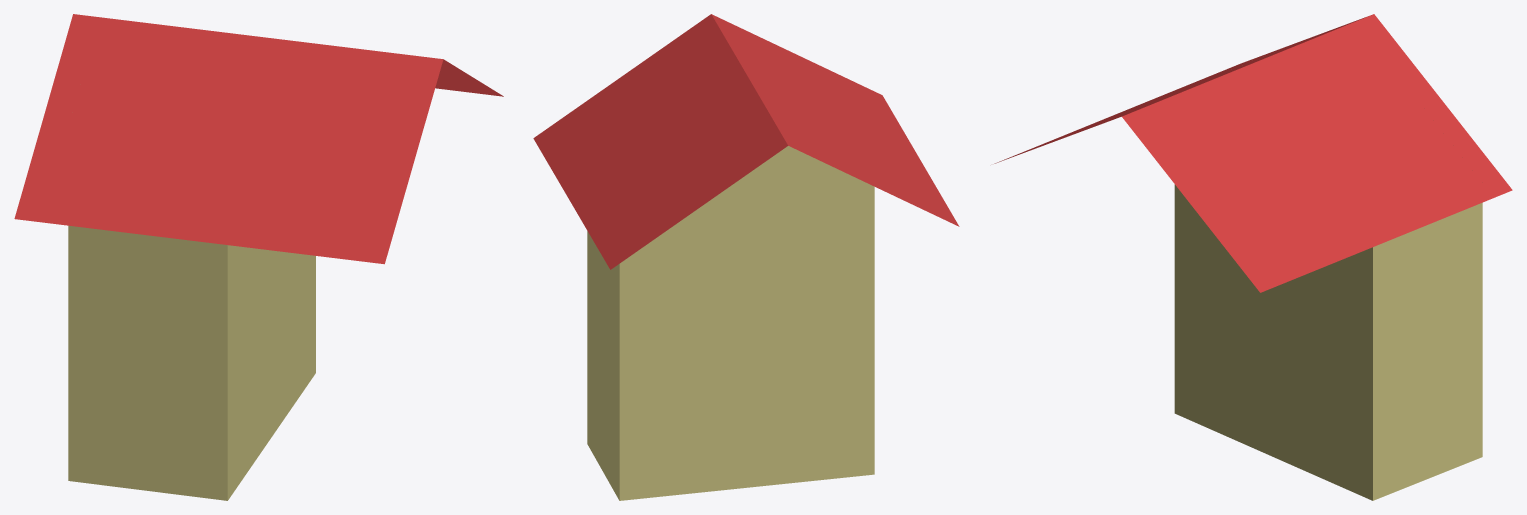
3 views of the same model, side by side, from view 1: azimuth 30°, elevation 25°; view 2: azimuth 150°, elevation 25°; view 3: azimuth 270°, elevation 25° (orthographic). The views are drawn at different scales.
Size of the model in its own units: 10.44 by 10.42 by 8.32.
